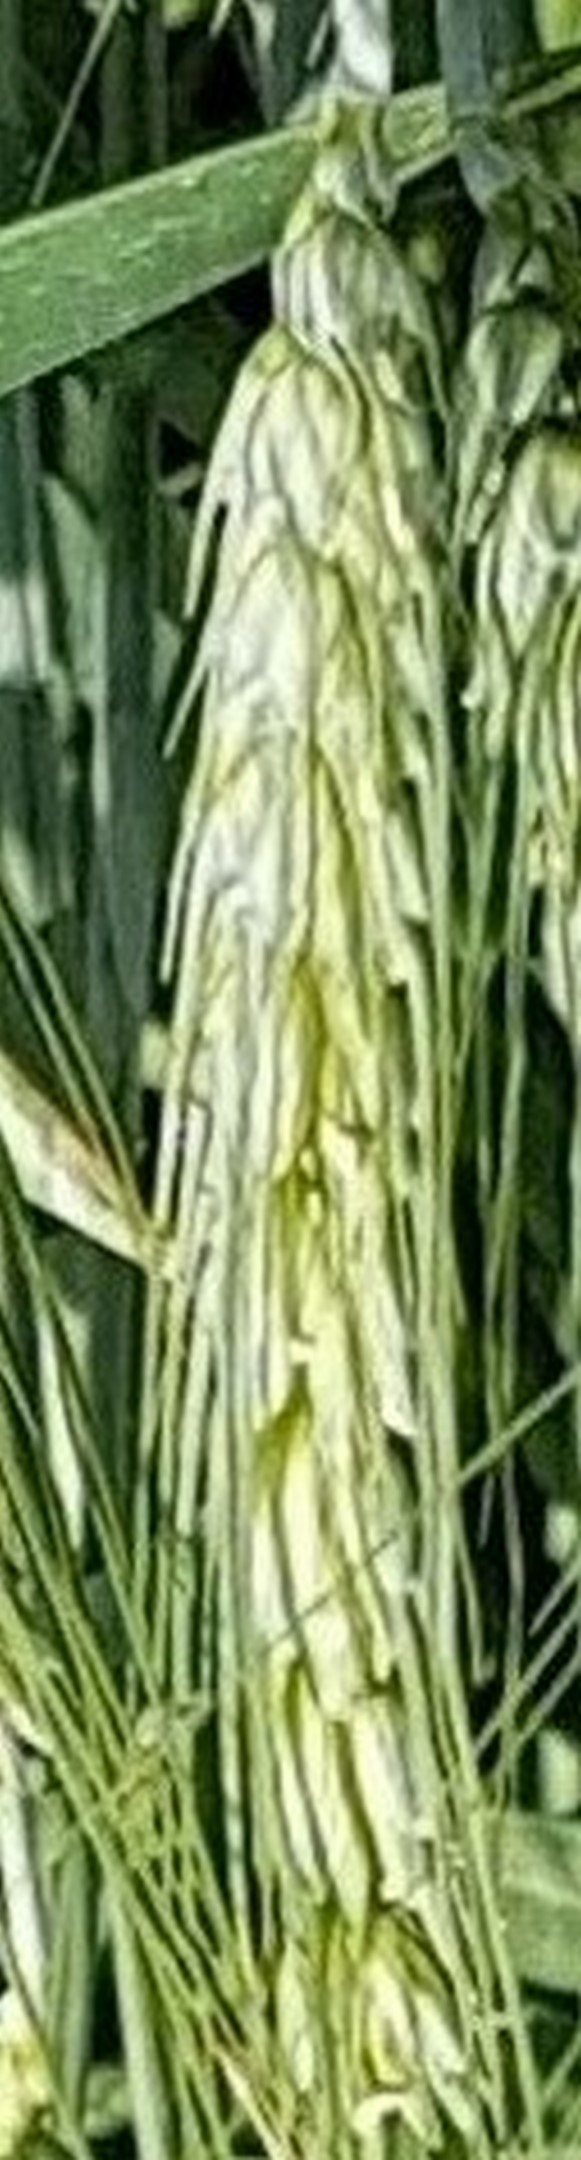Healthy Wheat: (140, 245, 552, 1911)
